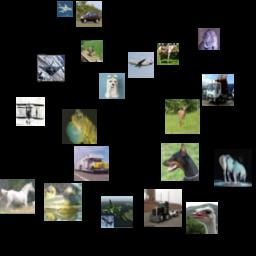airplane: (101, 196, 133, 228), (35, 52, 67, 84), (16, 97, 45, 126), (128, 52, 154, 78), (57, 1, 73, 17)
automobile: (76, 1, 102, 27)
bird: (186, 202, 218, 234), (81, 40, 103, 62)
cat: (198, 28, 220, 50)
deer: (165, 99, 200, 134)
dog: (161, 143, 199, 181), (99, 73, 125, 99)
frog: (44, 183, 82, 221), (62, 109, 97, 144)
truck: (144, 189, 182, 227), (74, 146, 109, 181), (202, 74, 234, 106)
